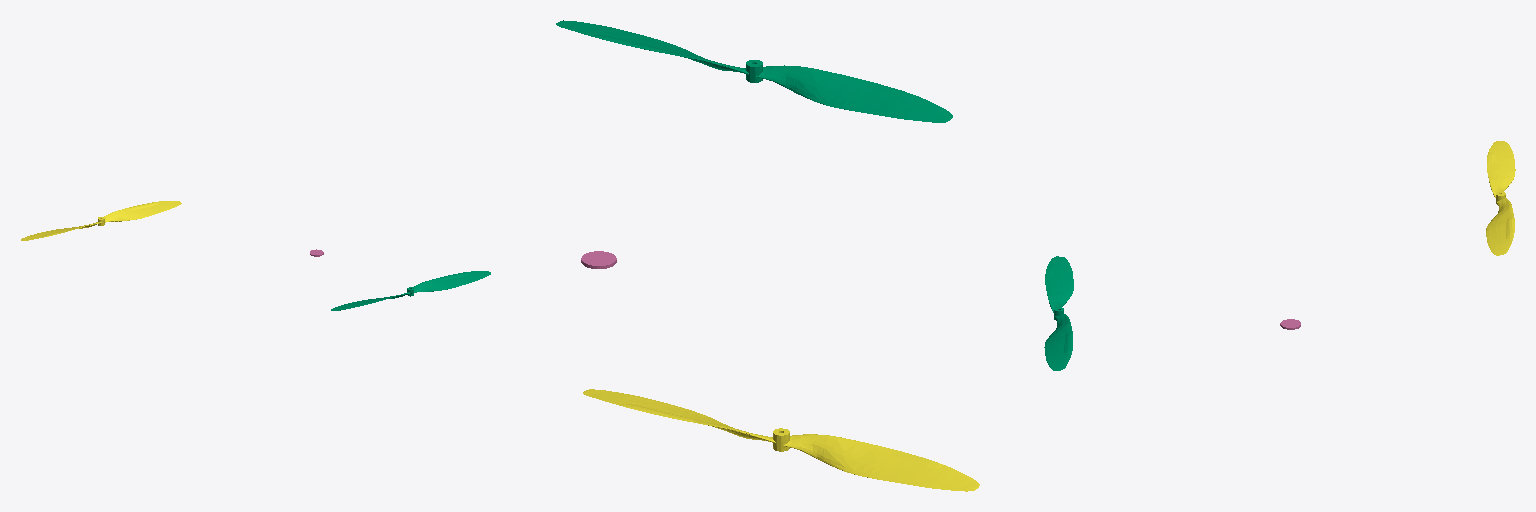
URDF robot description (iris):
<?xml version="1.0" ?>
<robot name="iris">
  <joint name="imu_joint" type="fixed">
    <parent link="base_link"/>
    <child link="imu_link"/>
    <origin xyz="0 0 0" rpy="0 0 0"/>
    <axis xyz="1 0 0"/>
    <limit lower="0.0" upper="0.0" effort="0.0" velocity="0.0"/>
  </joint>
  <joint name="rotor_0_joint" type="revolute">
    <parent link="base_link"/>
    <child link="rotor_0"/>
    <origin xyz="0.13  -0.22   0.023" rpy="0 0 0"/>
    <axis xyz="0 0 1"/>
    <limit lower="-1e+16" upper="1e+16" effort="0.0" velocity="0.0"/>
  </joint>
  <joint name="rotor_1_joint" type="revolute">
    <parent link="base_link"/>
    <child link="rotor_1"/>
    <origin xyz="-0.13   0.2    0.023" rpy="0 0 0"/>
    <axis xyz="0 0 1"/>
    <limit lower="-1e+16" upper="1e+16" effort="0.0" velocity="0.0"/>
  </joint>
  <joint name="rotor_2_joint" type="revolute">
    <parent link="base_link"/>
    <child link="rotor_2"/>
    <origin xyz="0.13  0.22  0.023" rpy="0 0 0"/>
    <axis xyz="0 0 1"/>
    <limit lower="-1e+16" upper="1e+16" effort="0.0" velocity="0.0"/>
  </joint>
  <joint name="rotor_3_joint" type="revolute">
    <parent link="base_link"/>
    <child link="rotor_3"/>
    <origin xyz="-0.13  -0.2    0.023" rpy="0 0 0"/>
    <axis xyz="0 0 1"/>
    <limit lower="-1e+16" upper="1e+16" effort="0.0" velocity="0.0"/>
  </joint>
  <joint name="gps0_joint" type="fixed">
    <parent link="base_link"/>
    <child link="gps0__link"/>
    <origin xyz="0.1 0  0" rpy="0 0 0"/>
    <axis xyz="0 0 0"/>
    <limit lower="0" upper="0" effort="0" velocity="0"/>
  </joint>
  <link name="base_link">
    <inertial>
      <mass value="1.5"/>
      <origin xyz="0 0 0" rpy="0 0 0"/>
      <inertia ixx="0.029125" ixy="0" ixz="0" iyy="0.029125" iyz="0" izz="0.055225"/>
    </inertial>
    <collision name="base_link_inertia_collision">
      <origin xyz="0 0 0" rpy="0 0 0"/>
      <geometry>
        <box size="0.47 0.47 0.11"/>
      </geometry>
    </collision>
    <visual>
      <origin xyz="0 0 0" rpy="0 0 0"/>
      <geometry>
        <mesh filename="package://px4_rotor_sim/model/meshes/iris.stl" scale="1 1 1"/>
      </geometry>
      <!-- <material name="grey">
        <color rgba=".5 1 .5 1"/>
      </material>  -->
    </visual>
  </link>
  <link name="imu_link">
    <inertial>
      <mass value="0.015"/>
      <origin xyz="0 0 0" rpy="0 0 0"/>
      <inertia ixx="1e-05" ixy="0" ixz="0" iyy="1e-05" iyz="0" izz="1e-05"/>
    </inertial>
  </link>
  <link name="rotor_0">
    <inertial>
      <mass value="0.005"/>
      <origin xyz="0 0 0" rpy="0 0 0"/>
      <inertia ixx="9.75e-07" ixy="0" ixz="0" iyy="0.000273104" iyz="0" izz="0.000274004"/>
    </inertial>
    <collision name="rotor_0_collision">
      <origin xyz="0 0 0" rpy="0 0 0"/>
      <geometry>
        <cylinder radius="0.128" length="0.005"/>
      </geometry>
    </collision>
    <visual name="rotor_0_visual">
      <origin xyz="0 0 0" rpy="0 0 0"/>
      <geometry>
        <mesh filename="package://px4_rotor_sim/model/meshes/iris_prop_ccw.dae" scale="1 1 1"/>
      </geometry>
    </visual>
  </link>
  <link name="rotor_1">
    <inertial>
      <mass value="0.005"/>
      <origin xyz="0 0 0" rpy="0 0 0"/>
      <inertia ixx="9.75e-07" ixy="0" ixz="0" iyy="0.000273104" iyz="0" izz="0.000274004"/>
    </inertial>
    <collision name="rotor_1_collision">
      <origin xyz="0 0 0" rpy="0 0 0"/>
      <geometry>
        <cylinder radius="0.128" length="0.005"/>
      </geometry>
    </collision>
    <visual>
      <origin xyz="0 0 0" rpy="0 0 0"/>
      <geometry>
        <mesh filename="package://px4_rotor_sim/model/meshes/iris_prop_ccw.dae" scale="1 1 1"/>
      </geometry>
      <!-- <material name="grey">
        <color rgba=".5 .5 .5 1"/>
      </material>  -->
    </visual>
  </link>
  <link name="rotor_2">
    <inertial>
      <mass value="0.005"/>
      <origin xyz="0 0 0" rpy="0 0 0"/>
      <inertia ixx="9.75e-07" ixy="0" ixz="0" iyy="0.000273104" iyz="0" izz="0.000274004"/>
    </inertial>
    <collision name="rotor_2_collision">
      <origin xyz="0 0 0" rpy="0 0 0"/>
      <geometry>
        <cylinder radius="0.128" length="0.005"/>
      </geometry>
    </collision>
    <visual name="rotor_2_visual">
      <origin xyz="0 0 0" rpy="0 0 0"/>
      <geometry>
        <mesh filename="package://px4_rotor_sim/model/meshes/iris_prop_cw.dae" scale="1 1 1"/>
      </geometry>
    </visual>
  </link>
  <link name="rotor_3">
    <inertial>
      <mass value="0.005"/>
      <origin xyz="0 0 0" rpy="0 0 0"/>
      <inertia ixx="9.75e-07" ixy="0" ixz="0" iyy="0.000273104" iyz="0" izz="0.000274004"/>
    </inertial>
    <collision name="rotor_3_collision">
      <origin xyz="0 0 0" rpy="0 0 0"/>
      <geometry>
        <cylinder radius="0.128" length="0.005"/>
      </geometry>
    </collision>
    <visual name="rotor_3_visual">
      <origin xyz="0 0 0" rpy="0 0 0"/>
      <geometry>
        <mesh filename="package://px4_rotor_sim/model/meshes/iris_prop_cw.dae" scale="1 1 1"/>
      </geometry>
    </visual>
  </link>
  <link name="gps0__link">
    <inertial>
      <mass value="0.015"/>
      <origin xyz="0 0 0" rpy="0 0 0"/>
      <inertia ixx="1e-05" ixy="0" ixz="0" iyy="1e-05" iyz="0" izz="1e-05"/>
    </inertial>
    <visual name="gps0__visual">
      <origin xyz="0 0 0" rpy="0 0 0"/>
      <geometry>
        <cylinder radius="0.01" length="0.002"/>
      </geometry>
    </visual>
  </link>
</robot>

--- Facts derived from the render (not from the file) ---
The picture shows the robot from 3 angles, left to right: view 1: azimuth 30°, elevation 25°; view 2: azimuth 150°, elevation 25°; view 3: azimuth 270°, elevation 25°; orthographic projection.
Robot: iris — 7 links, 6 joints (4 revolute, 2 fixed); root link base_link; default pose: every joint at zero.
Visible links, largest first — view 1: rotor_0, rotor_1; view 2: rotor_0, rotor_1, gps0__link; view 3: rotor_1, rotor_0.
Link boxes in pixels (x1,y1,x2,y2): rotor_0: (331, 271, 490, 310); rotor_1: (21, 201, 181, 240); rotor_0: (556, 20, 952, 122); rotor_1: (583, 389, 979, 491); gps0__link: (581, 251, 616, 268); rotor_1: (1486, 141, 1515, 255); rotor_0: (1044, 256, 1073, 370).
Size in the robot's own frame: 0.5177 by 0.448 by 0.029 metres.
2 mesh visuals loaded from 3 distinct referenced files (1 Collada DAE); not drawn: 3 (reference not matched to a file when rendering).
